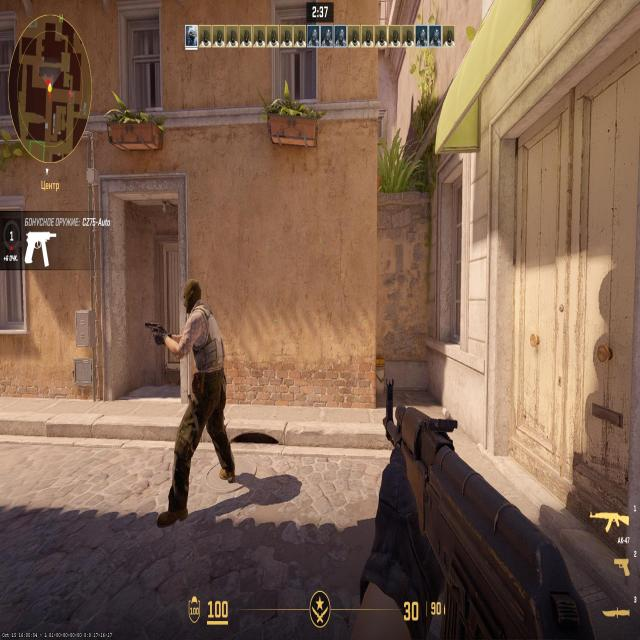T: (185, 275, 223, 473)
T_heat: (187, 283, 200, 303)
